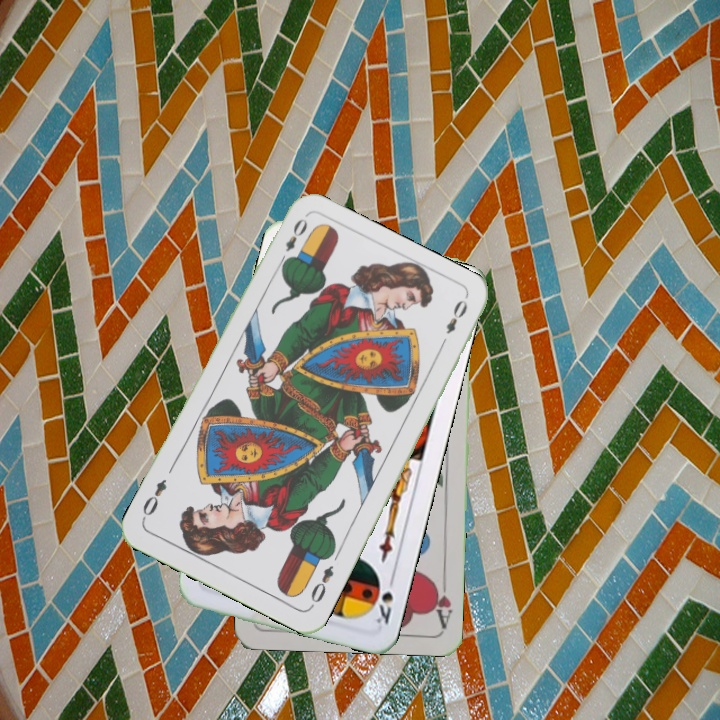EO: (274, 214, 311, 270), (306, 561, 336, 610)
HA: (428, 571, 455, 630)
SK: (372, 570, 398, 627)
